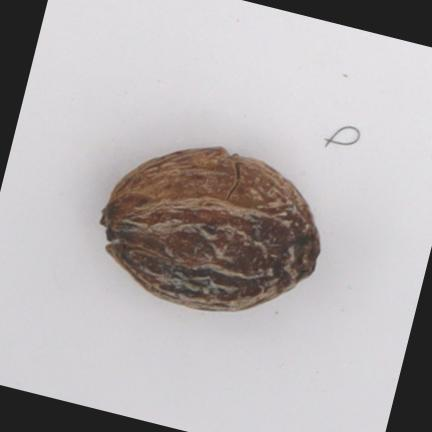husk: (101, 147, 320, 311)
